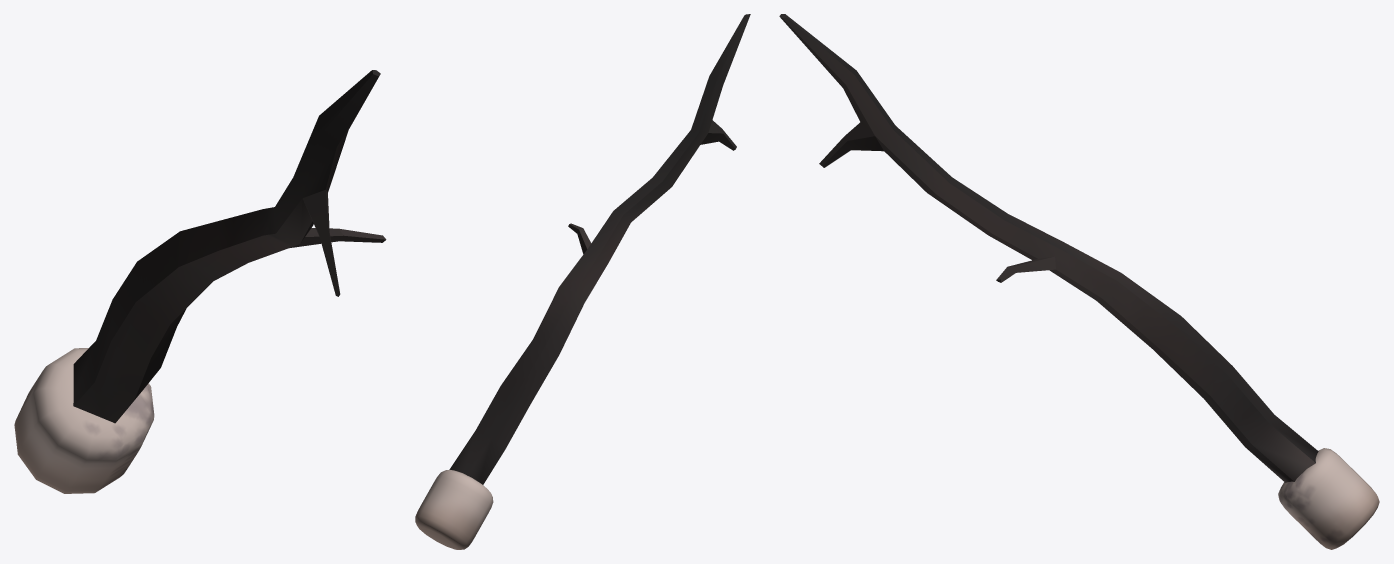
Rendered from marshmallow.fbx.
The picture shows the model from 3 angles, left to right: view 1: azimuth 30°, elevation 25°; view 2: azimuth 150°, elevation 25°; view 3: azimuth 270°, elevation 25°; orthographic projection. The views are drawn at different scales.
Visible parts, largest first — view 1: Cylinder.001, Cylinder.002; view 2: Cylinder.001, Cylinder.002; view 3: Cylinder.001, Cylinder.002.
Boxes of the visible parts, x1,y1,x2,y2 form: Cylinder.001: (73, 70, 386, 423); Cylinder.002: (14, 348, 154, 493); Cylinder.001: (449, 14, 750, 484); Cylinder.002: (415, 470, 493, 549); Cylinder.001: (779, 14, 1318, 482); Cylinder.002: (1278, 448, 1379, 549).
Size of the model in its own units: 52.39 by 182 by 204.
1 material, 1 textured.
